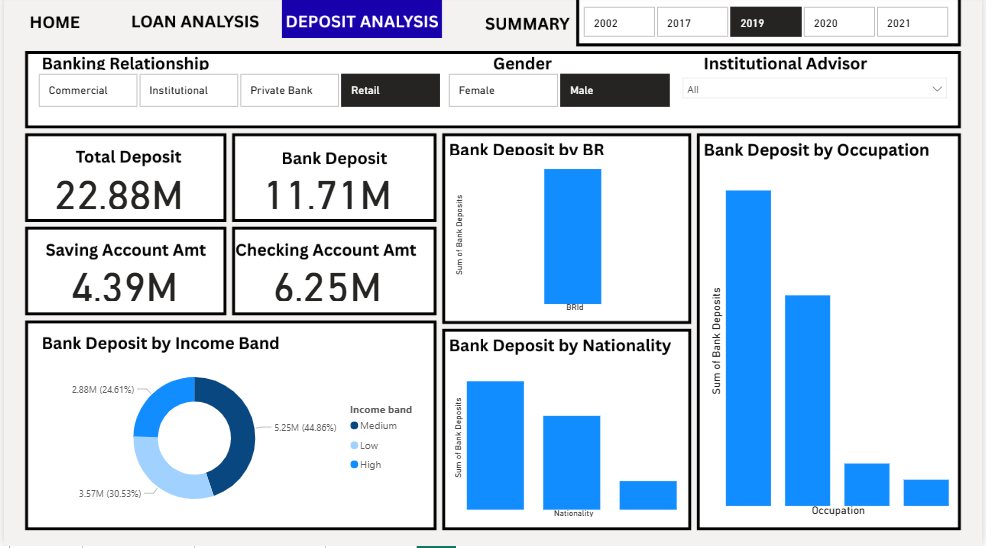

The dashboard page shown, as its layout file describes it:
{"tool":"powerbi","page":{"name":"Deposit Analysis","canvas":[1280,720],"ordinal":2},"visuals":[{"type":"card","fields":{"Values":["Sum(bank_details.Bank Deposits)"]},"box":[307.4,223.4,230.1,60.5],"z":0},{"type":"card","fields":{"Values":["bank_details.Total Deposit"]},"box":[37,223.4,226.8,60.5],"z":1000},{"type":"card","fields":{"Values":["Sum(bank_details.Saving Accounts)"]},"box":[37,344.4,241.9,60.5],"z":2000},{"type":"card","fields":{"Values":["Sum(bank_details.Checking Accounts)"]},"box":[307.4,344.4,230.1,60.5],"z":3000},{"type":"donutChart","fields":{"Category":["bank_details.Income band"],"Y":["Sum(bank_details.Bank Deposits)"]},"box":[41.1,470.2,517.2,217.5],"z":4000},{"type":"clusteredColumnChart","fields":{"Category":["bank_details.BRId"],"Y":["Sum(bank_details.Bank Deposits)"]},"box":[584.8,208.7,307.1,210.1],"z":5000},{"type":"clusteredColumnChart","fields":{"Y":["Sum(bank_details.Bank Deposits)"],"Category":["bank_details.Nationality"]},"box":[583.3,470.2,307.1,217.5],"z":6000},{"type":"clusteredColumnChart","fields":{"Y":["Sum(bank_details.Bank Deposits)"],"Category":["bank_details.Occupation"]},"box":[918.8,221.7,325.9,465.3],"z":7000},{"type":"advancedSlicerVisual","fields":{"Values":["bank_details.Year of Joining"]},"box":[754.2,9.6,490,49.5],"z":8000},{"type":"advancedSlicerVisual","fields":{"Values":["bank_details.BRId"]},"box":[40.3,97.4,537.5,53.8],"z":9000},{"type":"advancedSlicerVisual","fields":{"Values":["bank_details.GenderId"]},"box":[577.8,97.4,300.7,53.8],"z":10000},{"type":"slicer","fields":{"Values":["bank_details.IAId"]},"box":[878.5,97.4,366.2,53.8],"z":11000},{"type":"actionButton","box":[18.5,13.4,100.8,40.3],"z":12000},{"type":"actionButton","box":[157.9,10.1,179.7,40.3],"z":13000},{"type":"actionButton","box":[619.8,18.5,119.3,40.3],"z":14000}]}

Visuals, with their boxes in screenshot pixels (x1, y1, x2, y2), scaled from the page's 1280x720 canvas onto the 986x548 screenshot:
card - Sum(bank_details.Bank Deposits): 237, 170, 414, 216
card - bank_details.Total Deposit: 29, 170, 203, 216
card - Sum(bank_details.Saving Accounts): 29, 262, 215, 308
card - Sum(bank_details.Checking Accounts): 237, 262, 414, 308
donutChart - bank_details.Income band x Sum(bank_details.Bank Deposits): 32, 358, 430, 523
clusteredColumnChart - bank_details.BRId x Sum(bank_details.Bank Deposits): 450, 159, 687, 319
clusteredColumnChart - Sum(bank_details.Bank Deposits) x bank_details.Nationality: 449, 358, 686, 523
clusteredColumnChart - Sum(bank_details.Bank Deposits) x bank_details.Occupation: 708, 169, 959, 523
advancedSlicerVisual - bank_details.Year of Joining: 581, 7, 958, 45
advancedSlicerVisual - bank_details.BRId: 31, 74, 445, 115
advancedSlicerVisual - bank_details.GenderId: 445, 74, 677, 115
slicer - bank_details.IAId: 677, 74, 959, 115
actionButton: 14, 10, 92, 41
actionButton: 122, 8, 260, 38
actionButton: 477, 14, 569, 45
